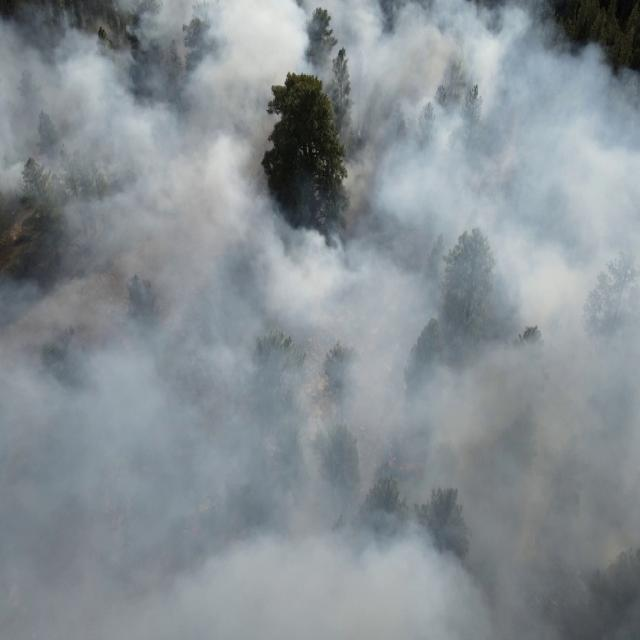fire: (388, 460, 422, 475)
smoke: (0, 0, 263, 640), (346, 0, 565, 639), (566, 70, 640, 640), (263, 156, 346, 640), (264, 0, 346, 75), (566, 38, 606, 70), (264, 86, 276, 153), (322, 76, 344, 104), (332, 106, 345, 146), (264, 76, 286, 86), (275, 109, 283, 122)
